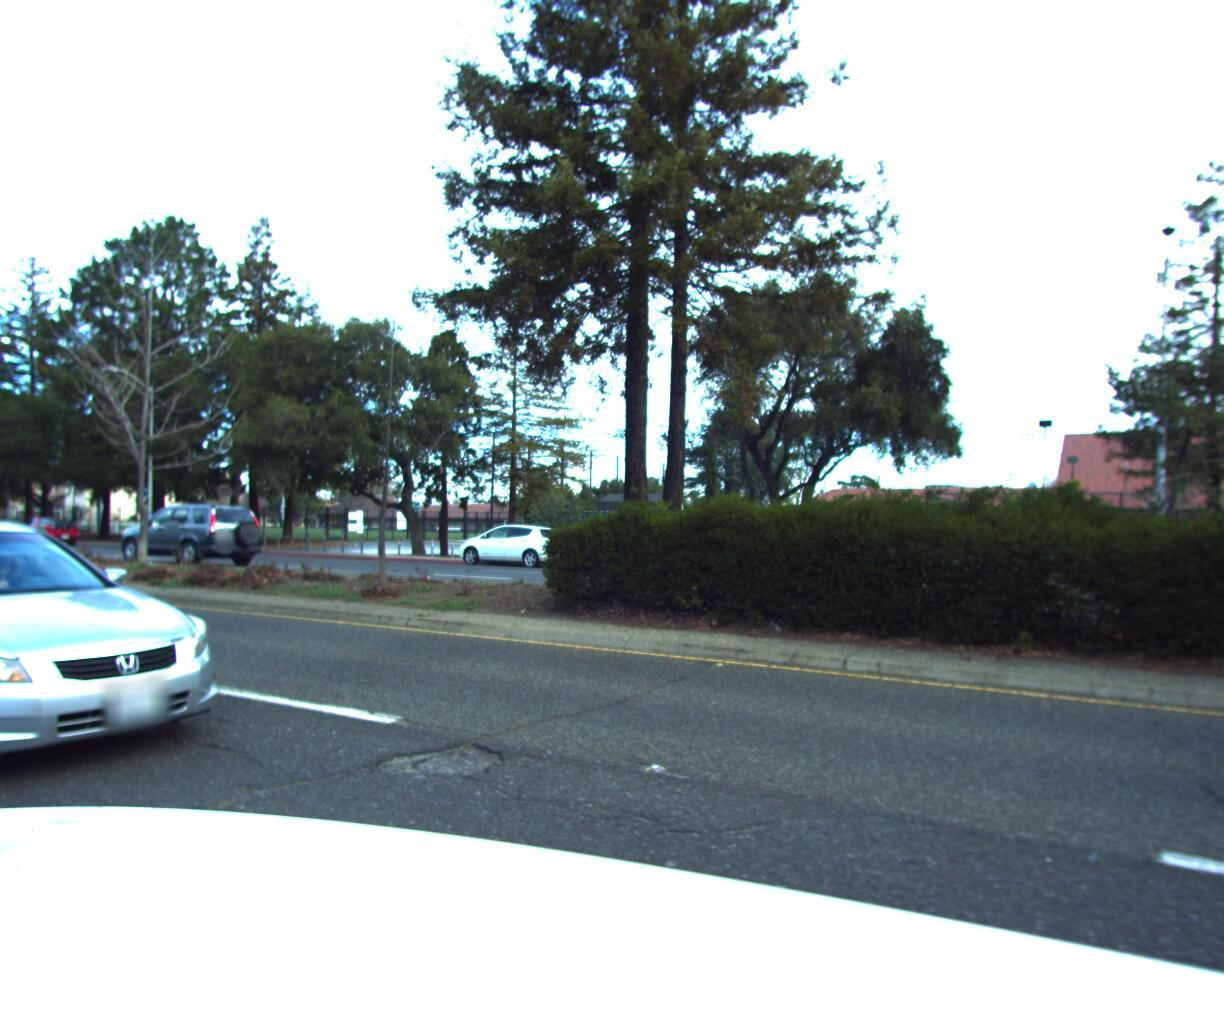car: (0, 499, 272, 838), (107, 502, 272, 566), (445, 517, 577, 570), (0, 511, 83, 544)
